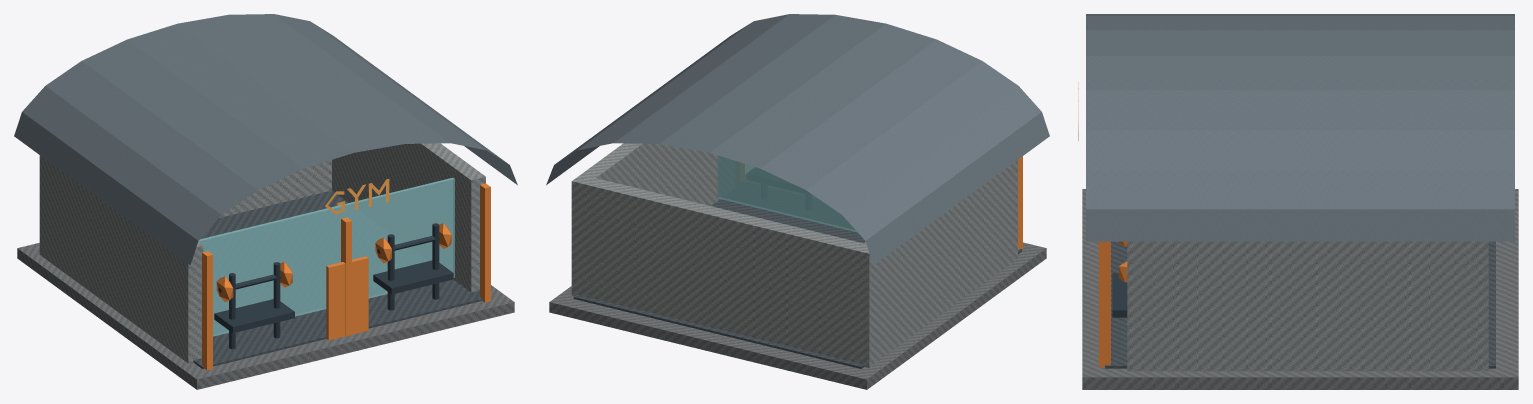
The model's file is gym.glb.
3 views of the same model, side by side, from view 1: azimuth 30°, elevation 25°; view 2: azimuth 150°, elevation 25°; view 3: azimuth 270°, elevation 25° (orthographic). The views are drawn at different scales.
Visible parts, largest first — view 1: barrel_roof, window_back, side_wall, foundation, side_wall.001, floor, rear_wall, door, rack, rack.001, front_post.002, front_post (+5 smaller); view 2: barrel_roof, rear_wall, side_wall, foundation, side_wall.001, window_back, floor, front_post; view 3: barrel_roof, side_wall.001, foundation, rear_wall, floor, front_post.002, rack.001.
Part boxes in pixels (<box>): barrel_roof: <box>14,14,517,265</box>; window_back: <box>198,177,454,336</box>; side_wall: <box>46,160,203,363</box>; foundation: <box>17,243,514,389</box>; side_wall.001: <box>332,143,485,292</box>; floor: <box>193,190,482,368</box>; rear_wall: <box>39,155,331,261</box>; door: <box>326,256,368,340</box>; rack: <box>214,299,294,333</box>; rack.001: <box>373,260,453,294</box>; front_post.002: <box>480,183,490,302</box>; front_post: <box>202,251,212,370</box>; barrel_roof: <box>546,14,1049,265</box>; rear_wall: <box>571,177,878,367</box>; side_wall: <box>861,160,1017,362</box>; foundation: <box>549,242,1046,389</box>; side_wall.001: <box>578,143,719,205</box>; window_back: <box>717,155,857,232</box>; floor: <box>573,199,1022,368</box>; front_post: <box>1018,156,1022,249</box>; barrel_roof: <box>1086,14,1514,241</box>; side_wall.001: <box>1127,241,1473,371</box>; foundation: <box>1082,189,1518,389</box>; rear_wall: <box>1466,241,1488,371</box>; floor: <box>1105,241,1495,368</box>; front_post.002: <box>1098,241,1110,367</box>; rack.001: <box>1112,273,1127,317</box>.
Size of the model in its own units: 6.6 by 3.8 by 6.33.
Materials: 8 (5 with a texture image).
